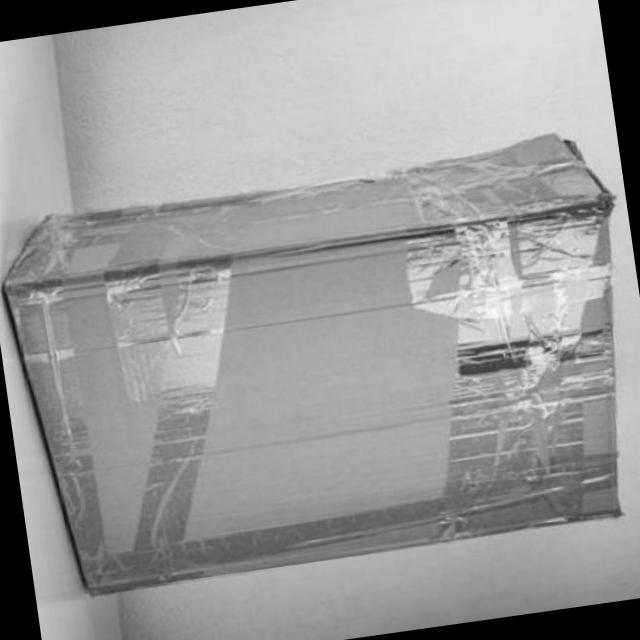box: (0, 103, 640, 616)
